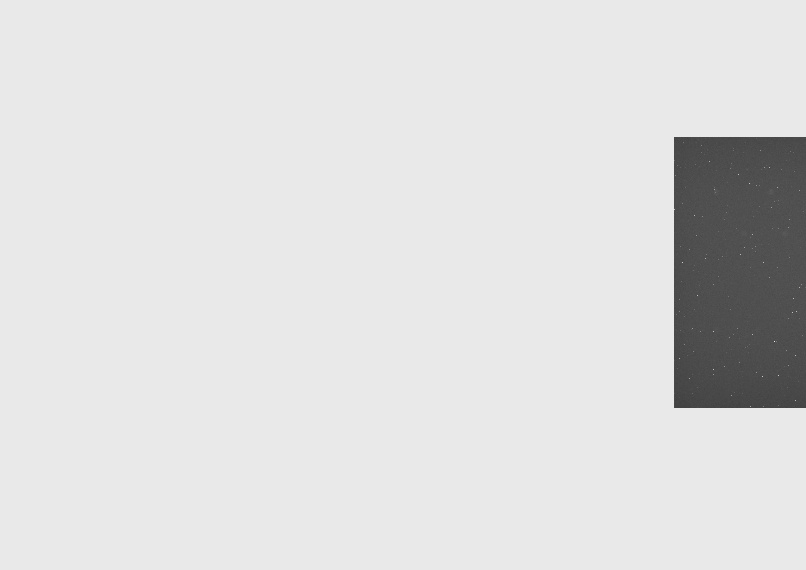bubble: (711, 186, 721, 197), (740, 227, 750, 237), (767, 187, 777, 195), (781, 230, 791, 238)
